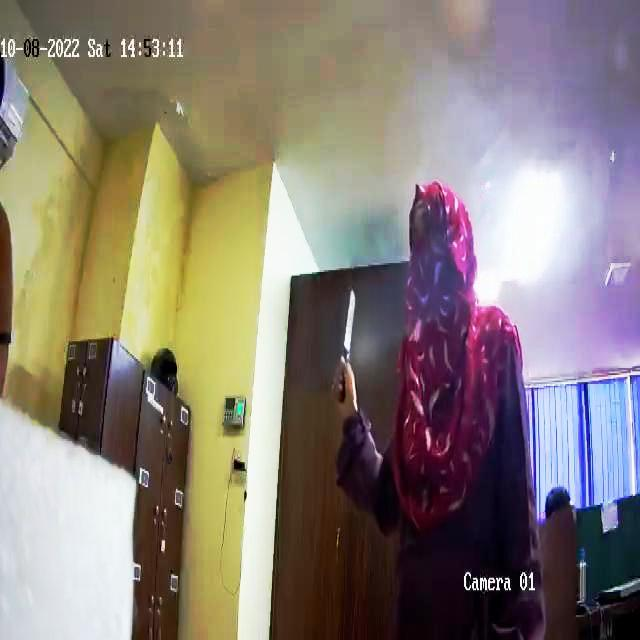Knife: (335, 264, 373, 411)
